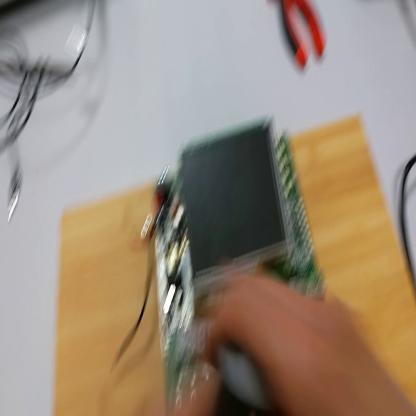hand: (211, 270, 414, 415)
low voltage board: (112, 118, 338, 405)
oscilloscope probe tip: (4, 53, 72, 85)
pliers: (268, 1, 327, 70)
screwdriver-: (219, 345, 269, 413)
working area: (55, 115, 416, 416)
